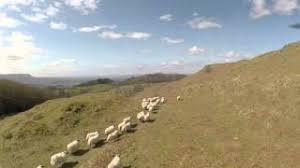sheep: (48, 150, 70, 168), (65, 138, 82, 153), (104, 153, 121, 168), (87, 134, 101, 148), (105, 130, 119, 141), (104, 123, 115, 135), (121, 120, 132, 132), (143, 111, 152, 123), (136, 109, 144, 121), (146, 103, 155, 111), (159, 95, 166, 104), (175, 95, 182, 101)
